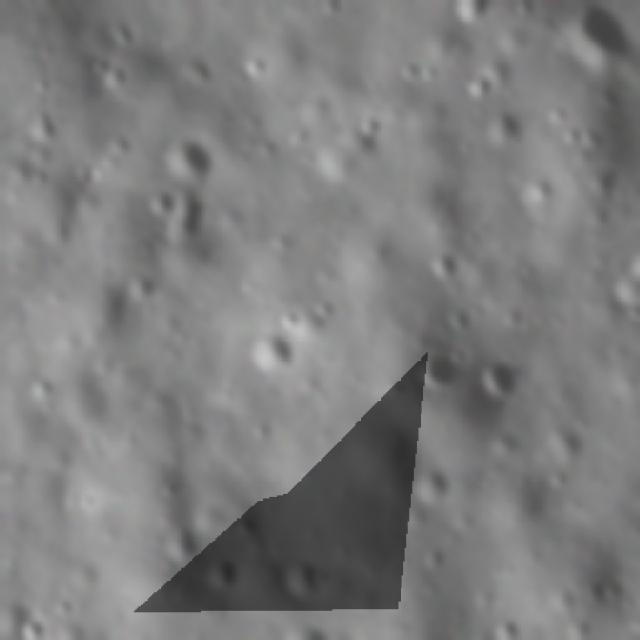crater: (163, 181, 217, 242), (463, 357, 520, 408), (158, 128, 208, 181), (401, 345, 462, 387), (518, 170, 570, 218), (271, 551, 324, 598), (410, 462, 456, 515), (349, 101, 394, 148), (423, 242, 471, 286), (86, 56, 136, 96), (480, 107, 522, 153), (254, 328, 292, 378), (458, 62, 499, 103), (136, 184, 179, 221), (162, 526, 200, 566), (205, 553, 246, 590), (127, 263, 164, 303), (240, 48, 277, 82), (412, 542, 448, 575), (107, 14, 142, 46)
